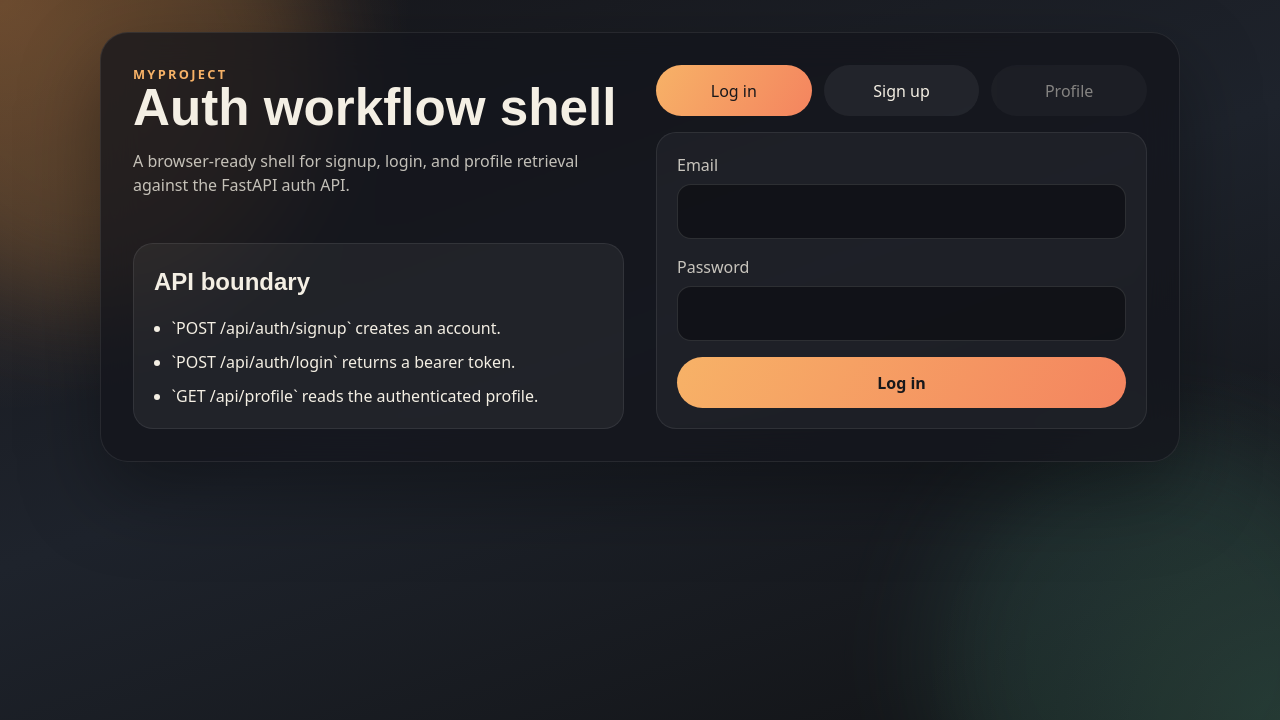
Scenario: App › shows duplicate signup errors returned by the service layer
Click the button "Sign up".
click(902, 91)  # box [824,65,979,116]
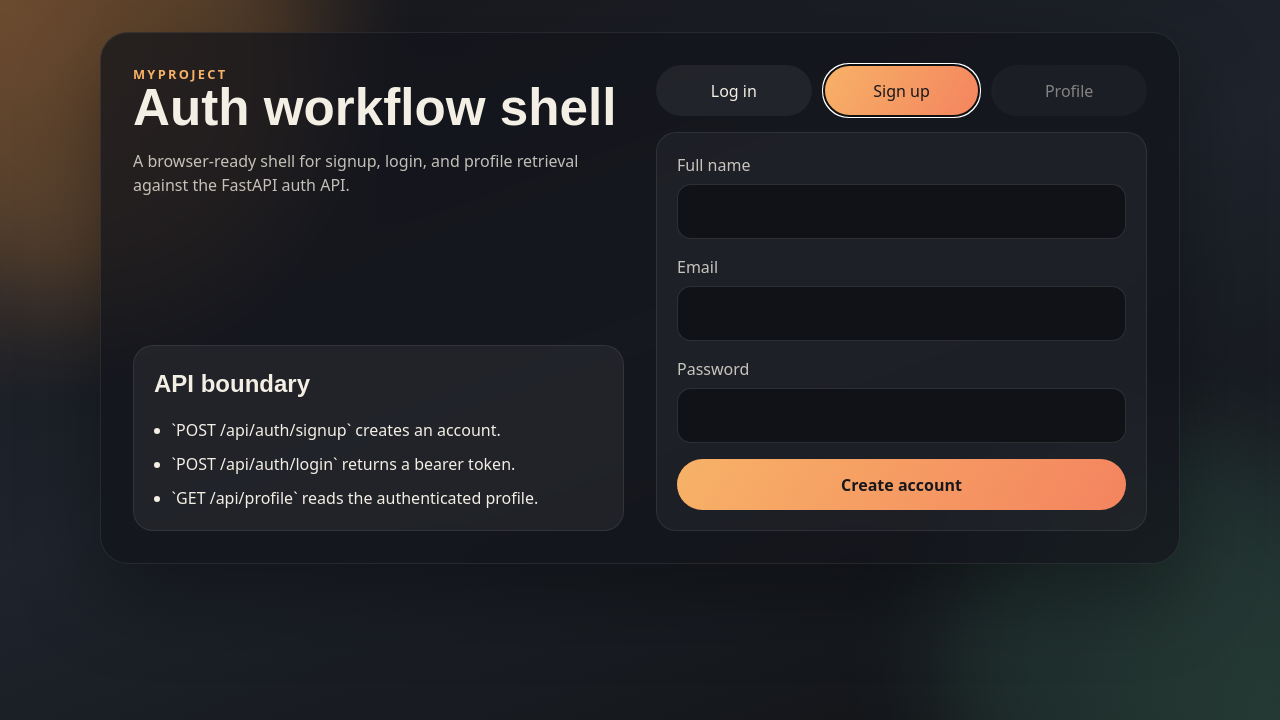
Type "Existing User" into the field labelled "Full name".
click(902, 212); type("Existing User")  # box [677,184,1126,239]
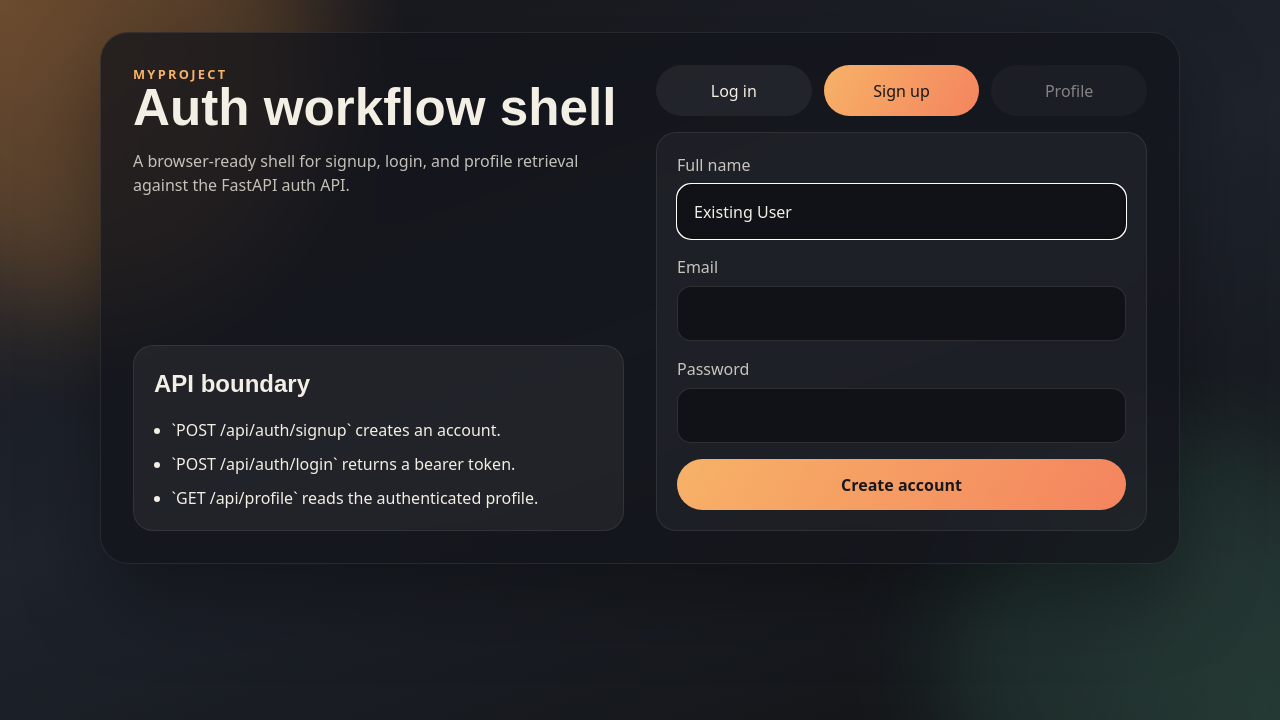
Type "person@example.com" into the field labelled "Email".
click(902, 314); type("person@example.com")  # box [677,286,1126,341]
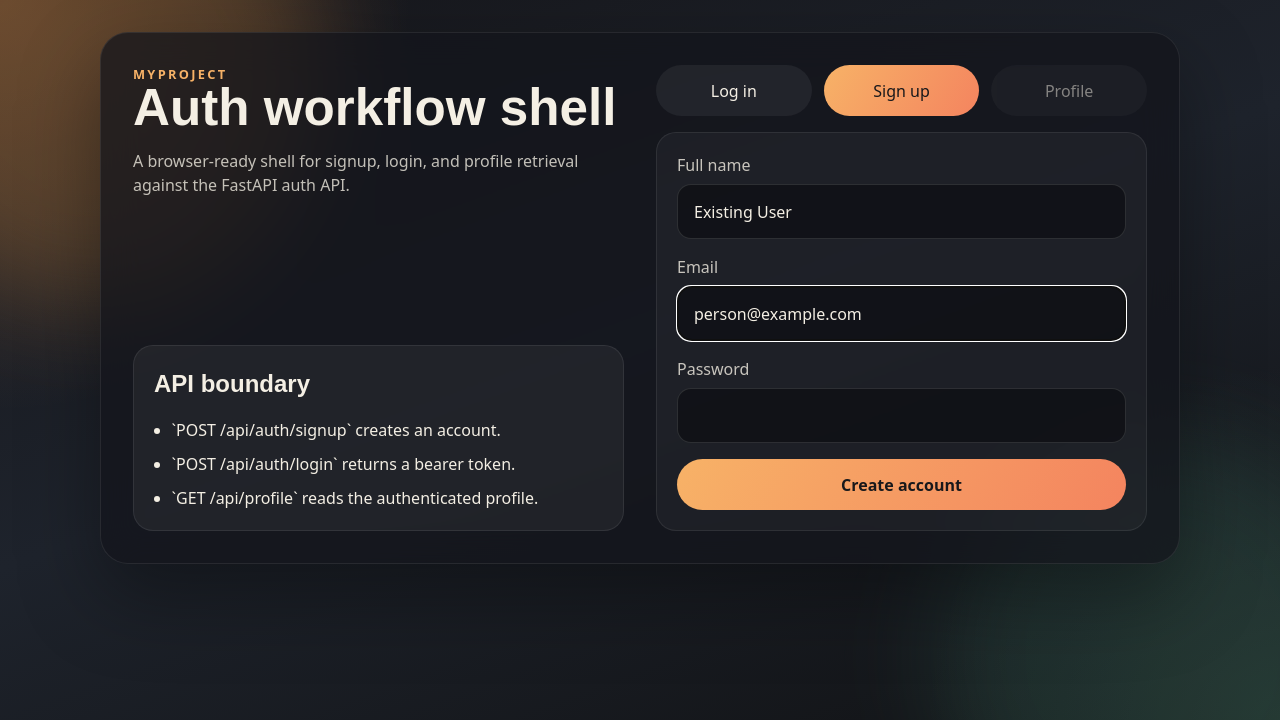
Type "password123" into the password field labelled "Password".
click(902, 416); type("password123")  # box [677,388,1126,443]
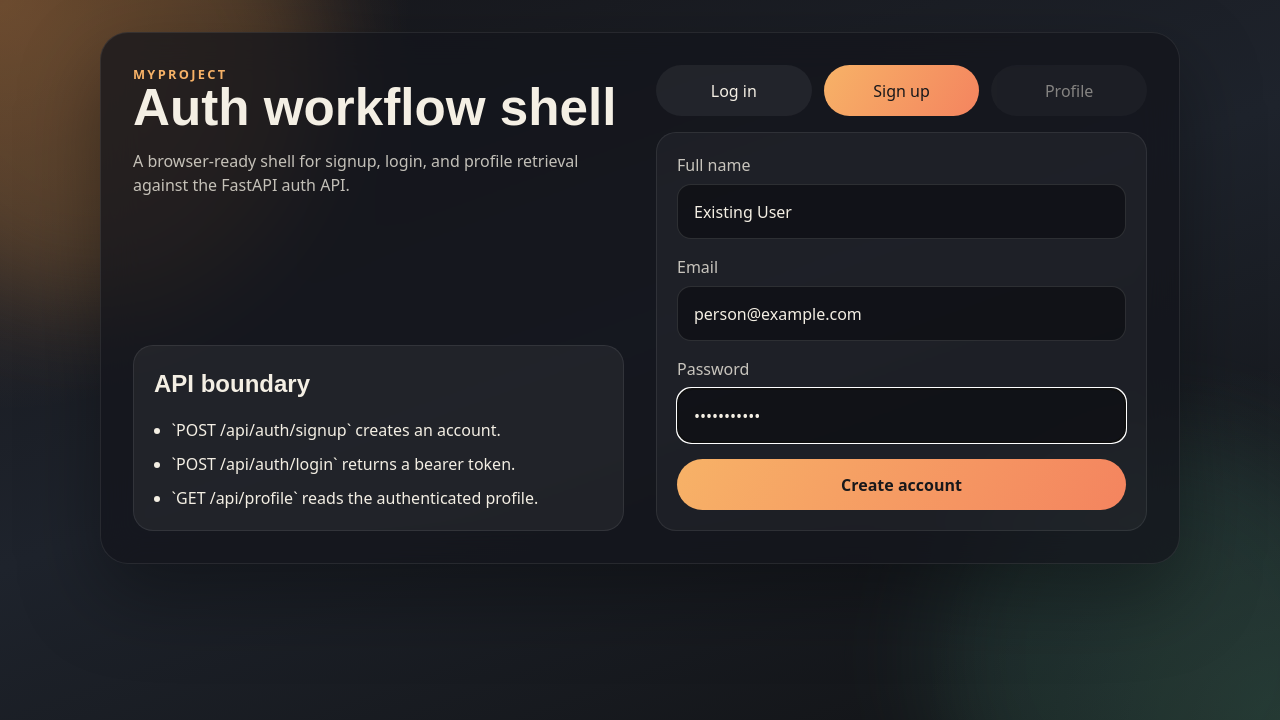
Click the button "Create account".
click(902, 485)  # box [677,459,1126,510]
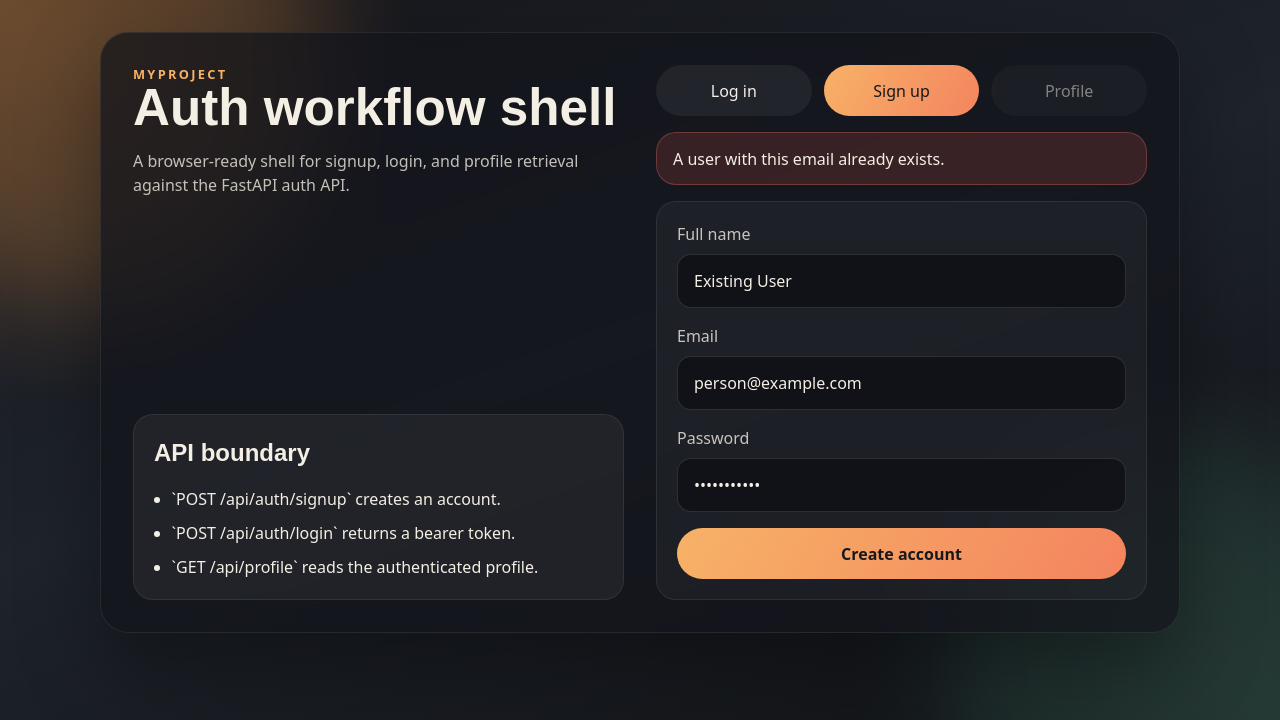
expect the text "A user with this email already exists." is shown: met, box [656,132,1147,185]
